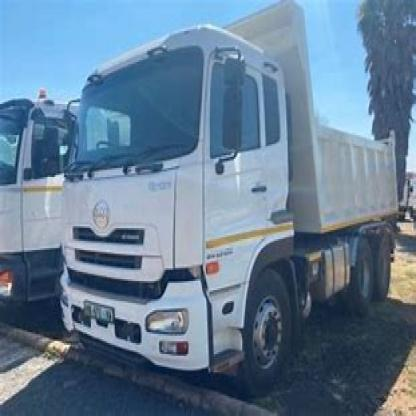dump_truck: (52, 5, 415, 387)
